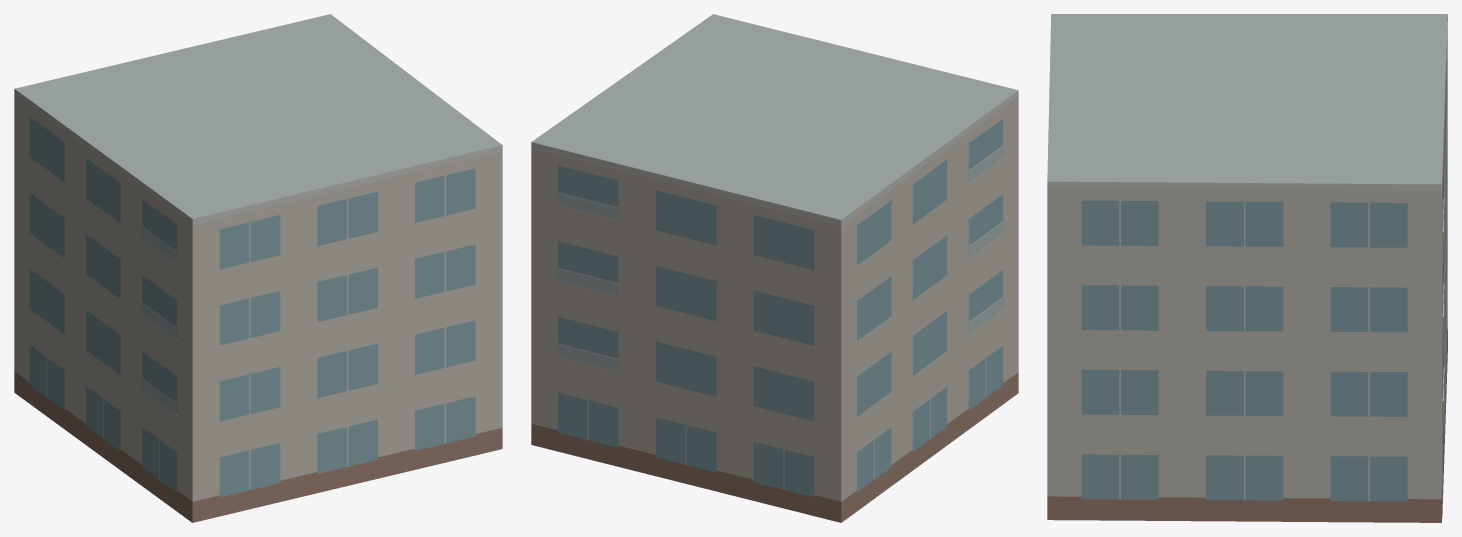
The model's file is survey-upis-32550166.glb.
3 renders of one model, left to right at view 1: azimuth 30°, elevation 25°; view 2: azimuth 150°, elevation 25°; view 3: azimuth 270°, elevation 25°, orthographic. The views are drawn at different scales.
Visible parts, largest first — view 1: survey-upis-32550166.tmp; view 2: survey-upis-32550166.tmp; view 3: survey-upis-32550166.tmp.
Part boxes in pixels (box(x1,y1,x2,y2)): survey-upis-32550166.tmp: box(14, 14, 502, 522); survey-upis-32550166.tmp: box(531, 14, 1018, 522); survey-upis-32550166.tmp: box(1047, 14, 1447, 522).
Size of the model in its own units: 13.22 by 12.2 by 13.09.
